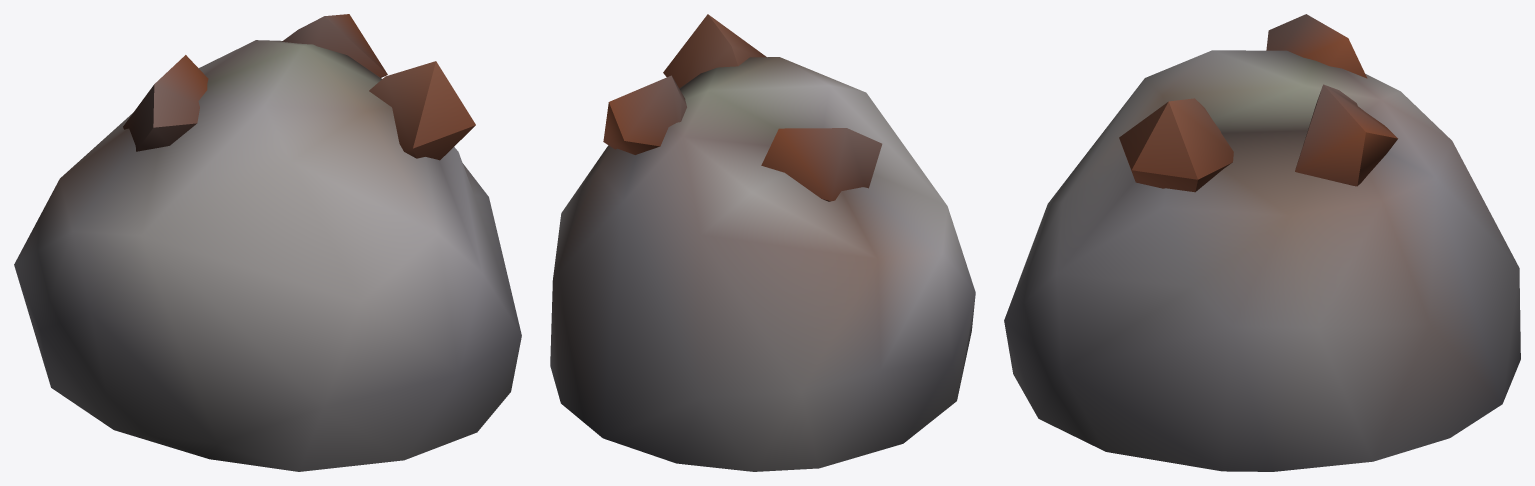
The model's file is node-ironVein-low.glb.
3 renders of one model, left to right at view 1: azimuth 30°, elevation 25°; view 2: azimuth 150°, elevation 25°; view 3: azimuth 270°, elevation 25°, orthographic. The views are drawn at different scales.
Visible parts, largest first — view 1: 0_vein.001; view 2: 0_vein.001; view 3: 0_vein.001.
Part boxes in pixels (<box>): 0_vein.001: <box>14,14,521,471</box>; 0_vein.001: <box>550,14,975,471</box>; 0_vein.001: <box>1004,14,1520,471</box>.
Size of the model in its own units: 1.91 by 1.41 by 2.01.
